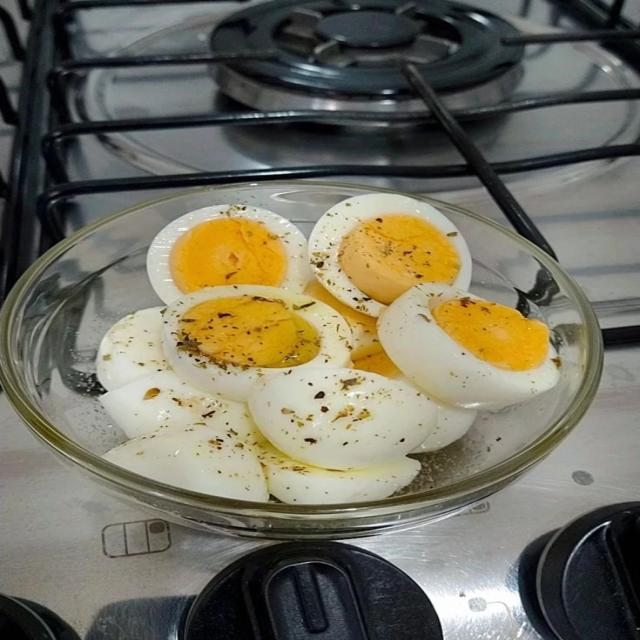egg boiled: (378, 284, 559, 409), (163, 285, 350, 401), (310, 194, 471, 317), (249, 368, 437, 469), (148, 205, 310, 303), (103, 426, 268, 501), (99, 370, 261, 443), (258, 444, 420, 504), (304, 280, 382, 359), (96, 307, 168, 390), (412, 390, 477, 453)
